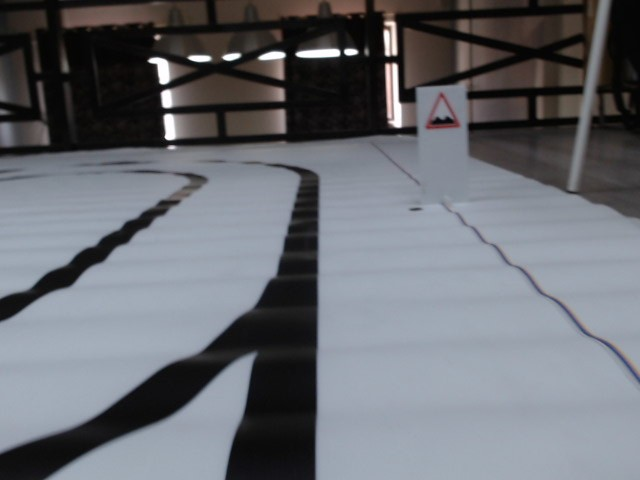Nerov: (425, 94, 462, 130)
